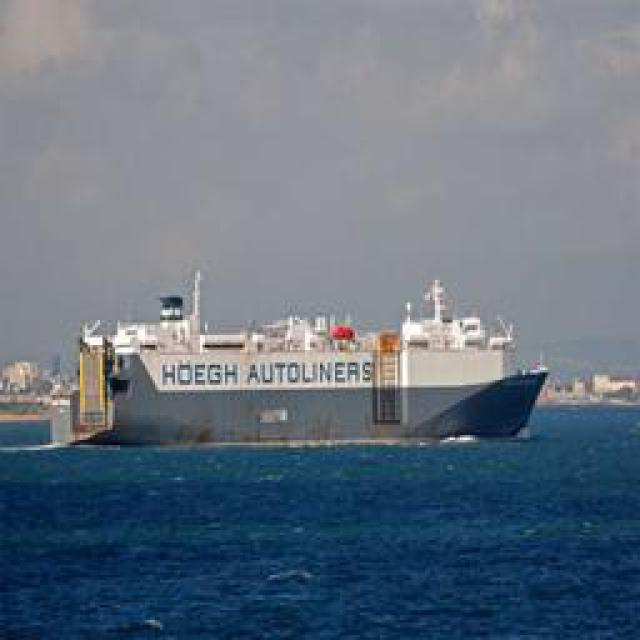Ship: (67, 275, 547, 445)
